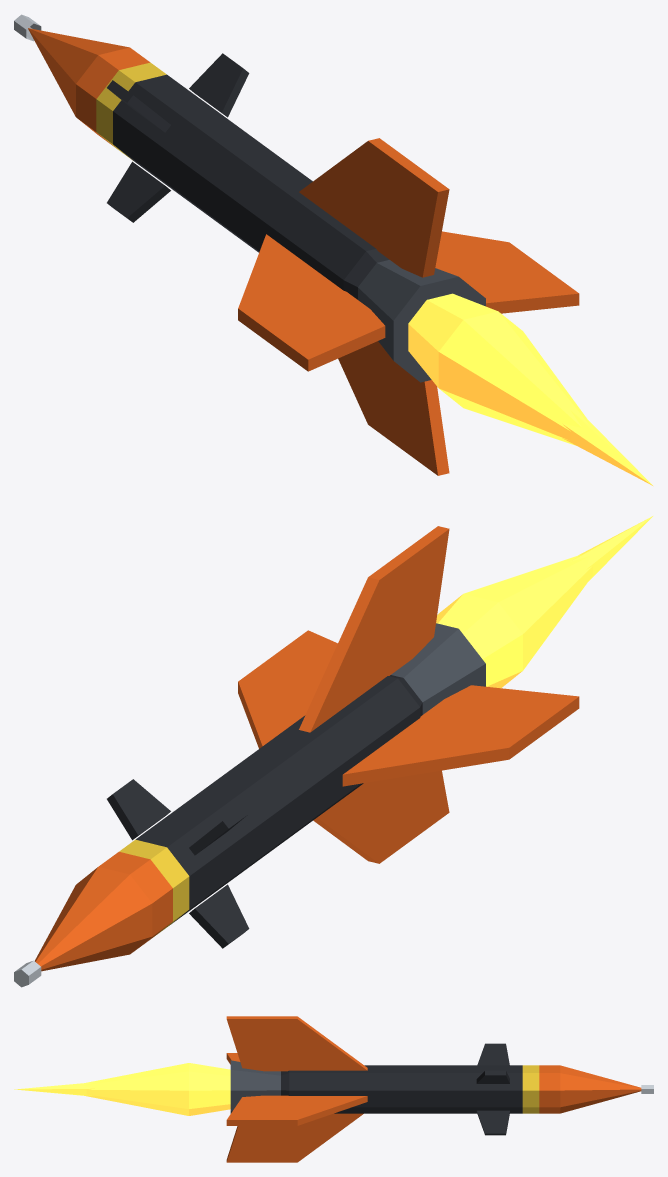
Rendered from rocket.glb.
3 views of the same model, one above another, from view 1: azimuth 30°, elevation 25°; view 2: azimuth 150°, elevation 25°; view 3: azimuth 270°, elevation 25° (orthographic). The views are drawn at different scales.
Parts seen in each view (by area): view 1: Body, Flame; view 2: Body, Flame; view 3: Body, Flame.
Part boxes in pixels (bbox=[...]): Body: bbox=[14, 14, 579, 475]; Flame: bbox=[408, 293, 652, 485]; Body: bbox=[14, 526, 579, 987]; Flame: bbox=[436, 516, 652, 688]; Body: bbox=[226, 1016, 653, 1162]; Flame: bbox=[14, 1063, 230, 1115].
Size of the model in its own units: 0.38 by 0.38 by 1.53.
